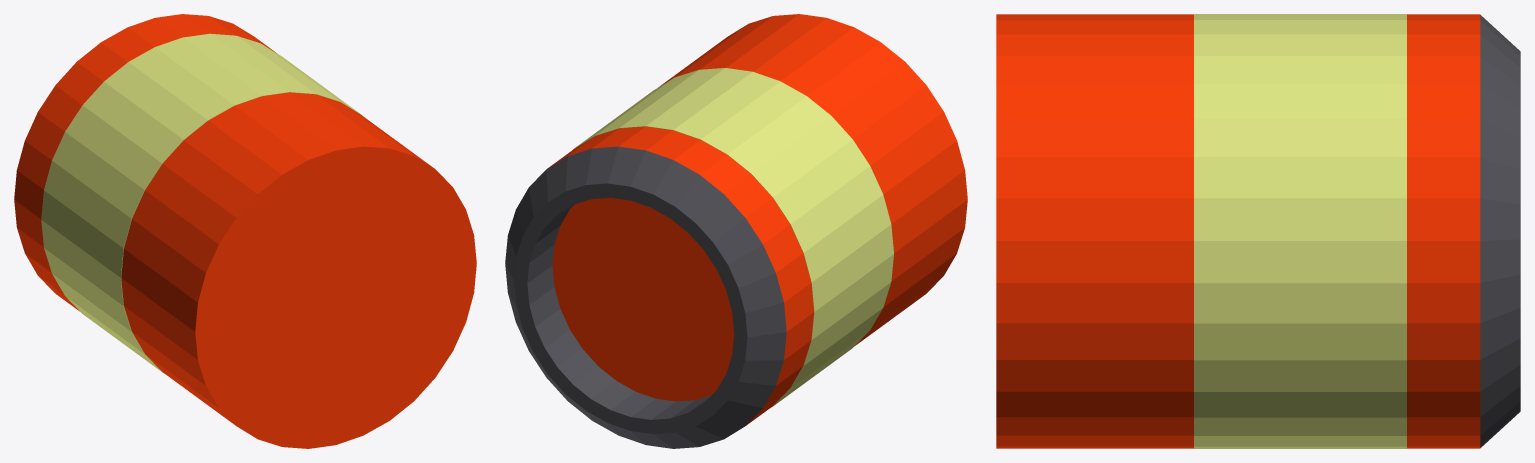
File: namprikpao_1.fbx
3 views of the same model, side by side, from view 1: azimuth 30°, elevation 25°; view 2: azimuth 150°, elevation 25°; view 3: azimuth 270°, elevation 25° (orthographic). The views are drawn at different scales.
Parts seen in each view (by area): view 1: prikpao; view 2: prikpao; view 3: prikpao.
Boxes of the visible parts, left/top/right/bottom form: prikpao: left=14, top=14, right=476, bottom=448; prikpao: left=505, top=14, right=967, bottom=448; prikpao: left=996, top=14, right=1520, bottom=448.
Bounding box in the file's own units: 200 × 200 × 241.
